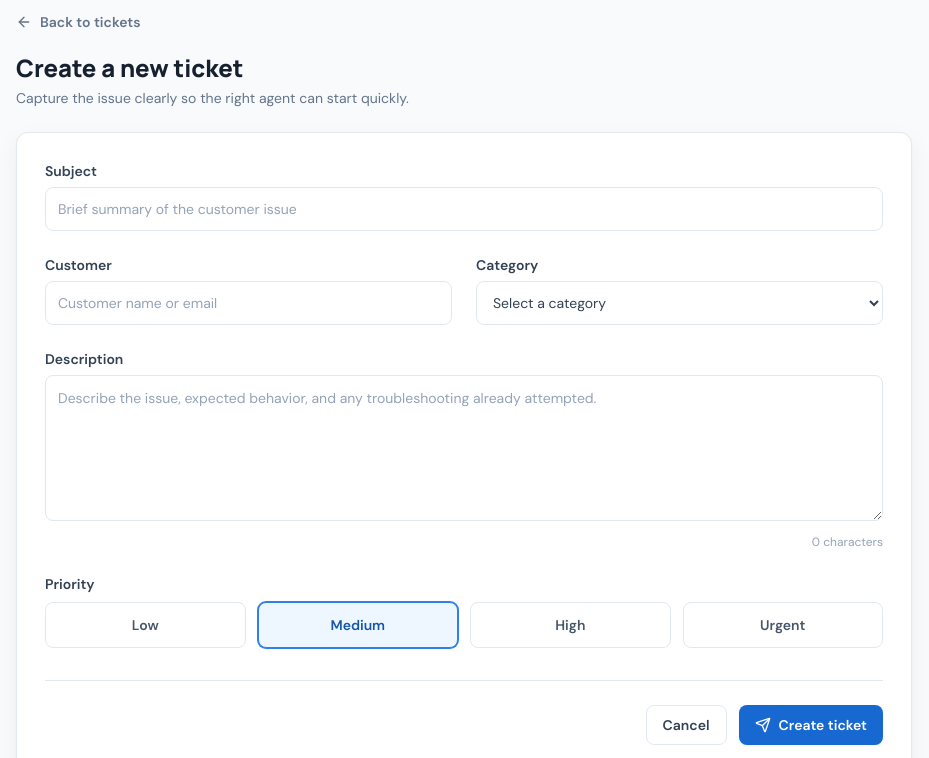
Scenario: CreateTicketPage › validates required ticket fields
The width and height of the screenshot is (929, 758).
Click the button "Create ticket": (811, 725) 738,705 -> 883,745
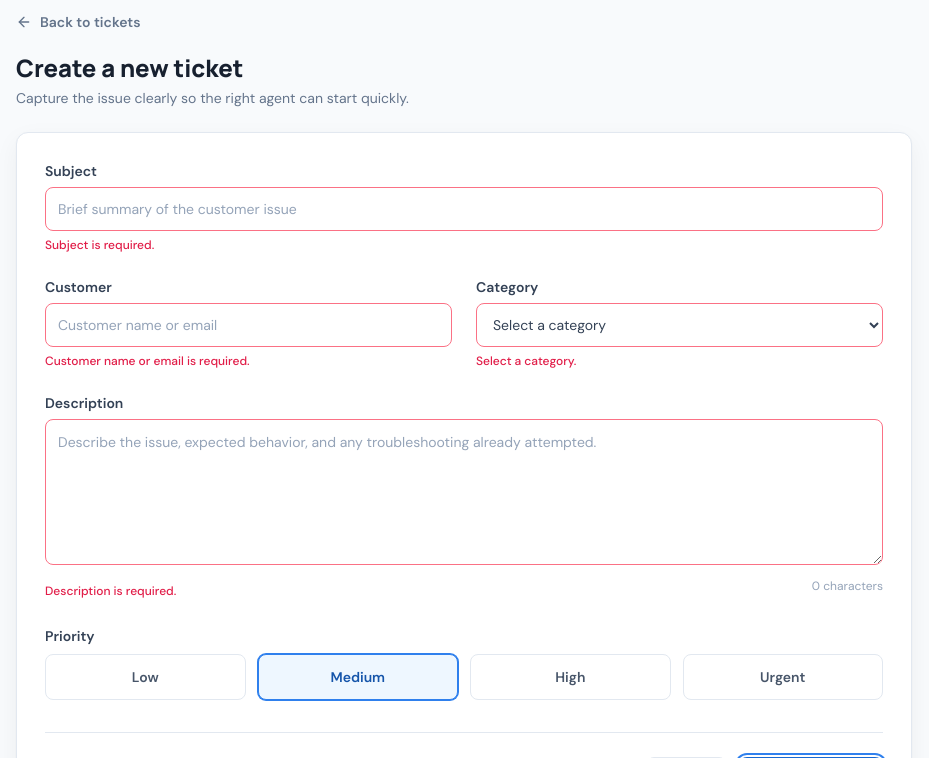
Now the text "Subject is required." is shown, box 45,237 -> 154,253
Now the text "Description is required." is shown, box 45,583 -> 176,599
